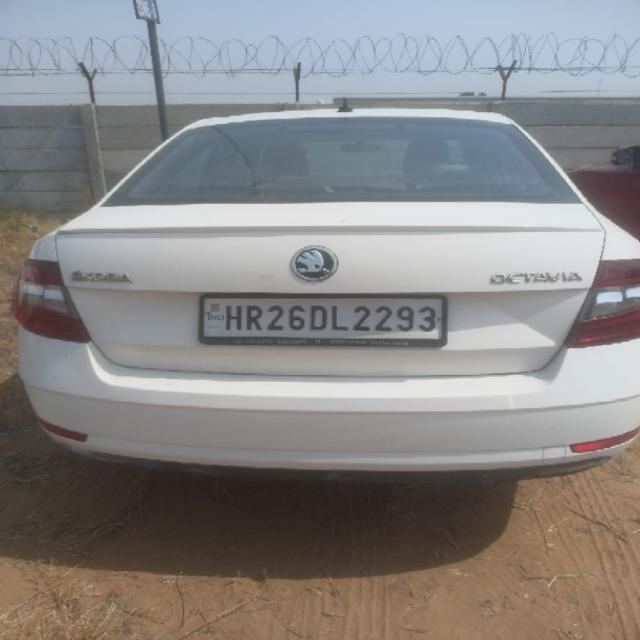license_plate: (197, 292, 448, 346)
